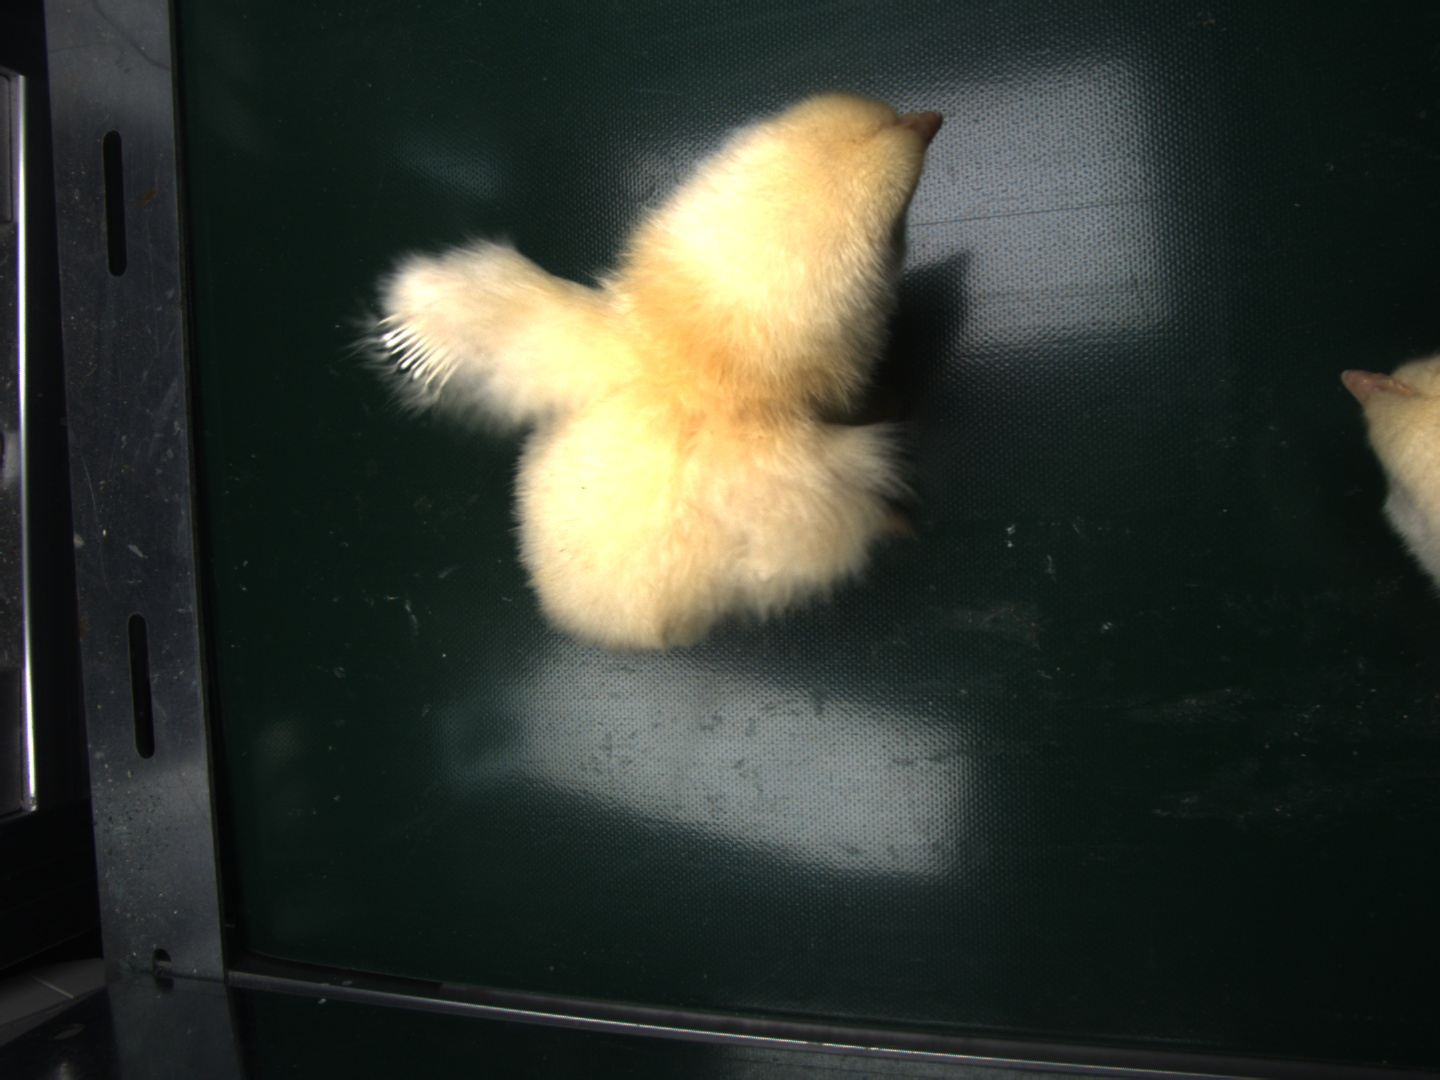male: (382, 310, 457, 386)
